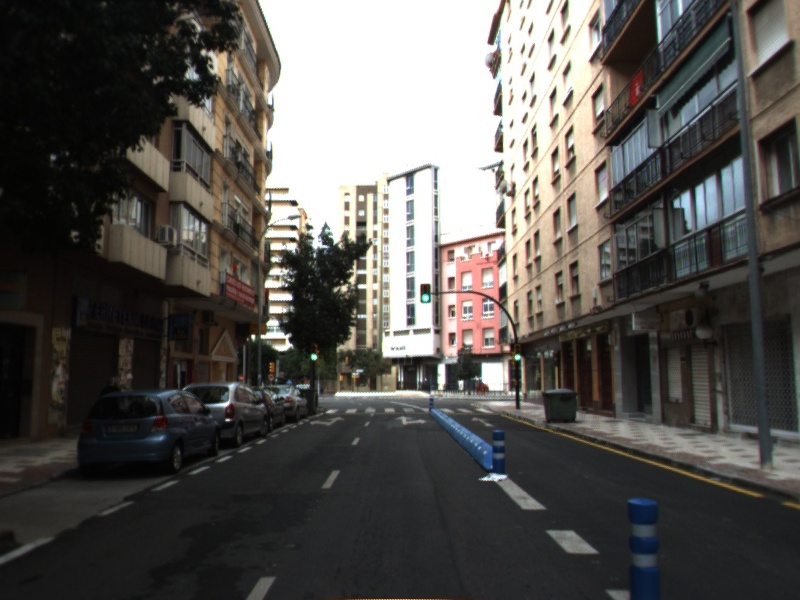STRAIGHT: (470, 415, 495, 428)
STRAIGHT_LEFT: (308, 414, 346, 428)
STRAIGHT_RIGHT: (393, 414, 428, 427)
